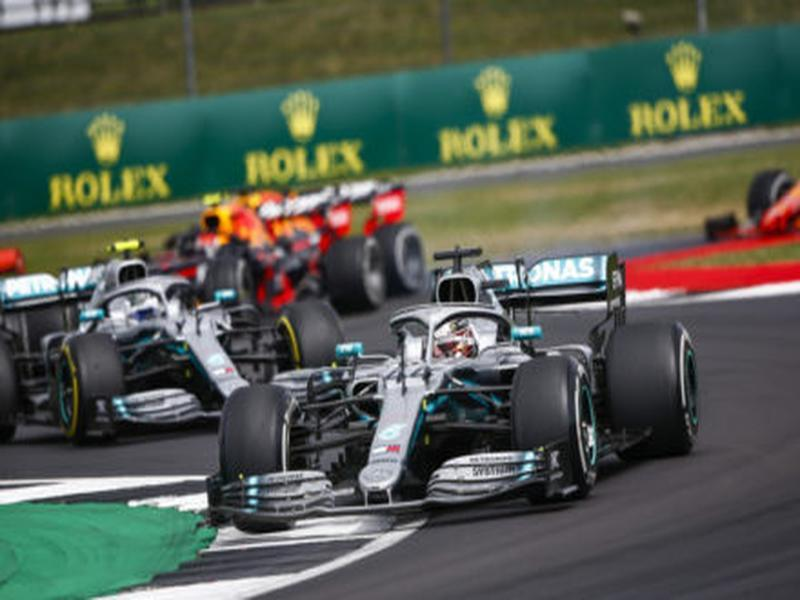f1: (208, 246, 761, 575), (6, 207, 369, 431)
